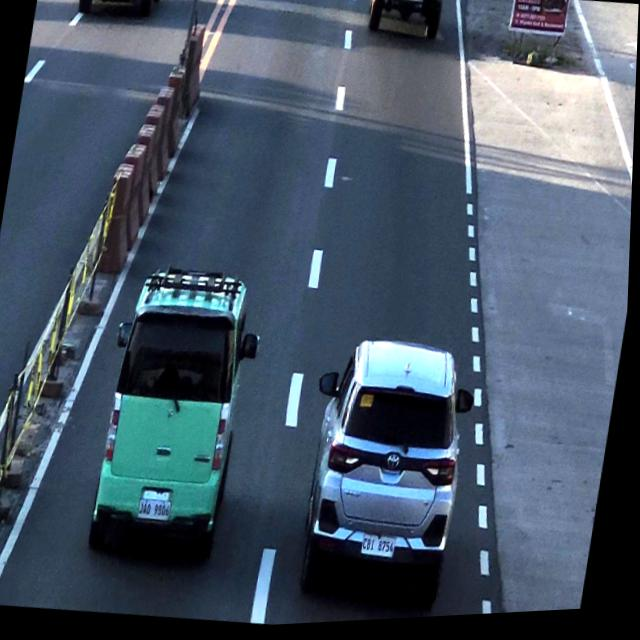Car: (98, 265, 261, 551), (301, 334, 482, 591), (365, 0, 446, 53)
License-Plate: (139, 492, 178, 531), (361, 534, 402, 569)
